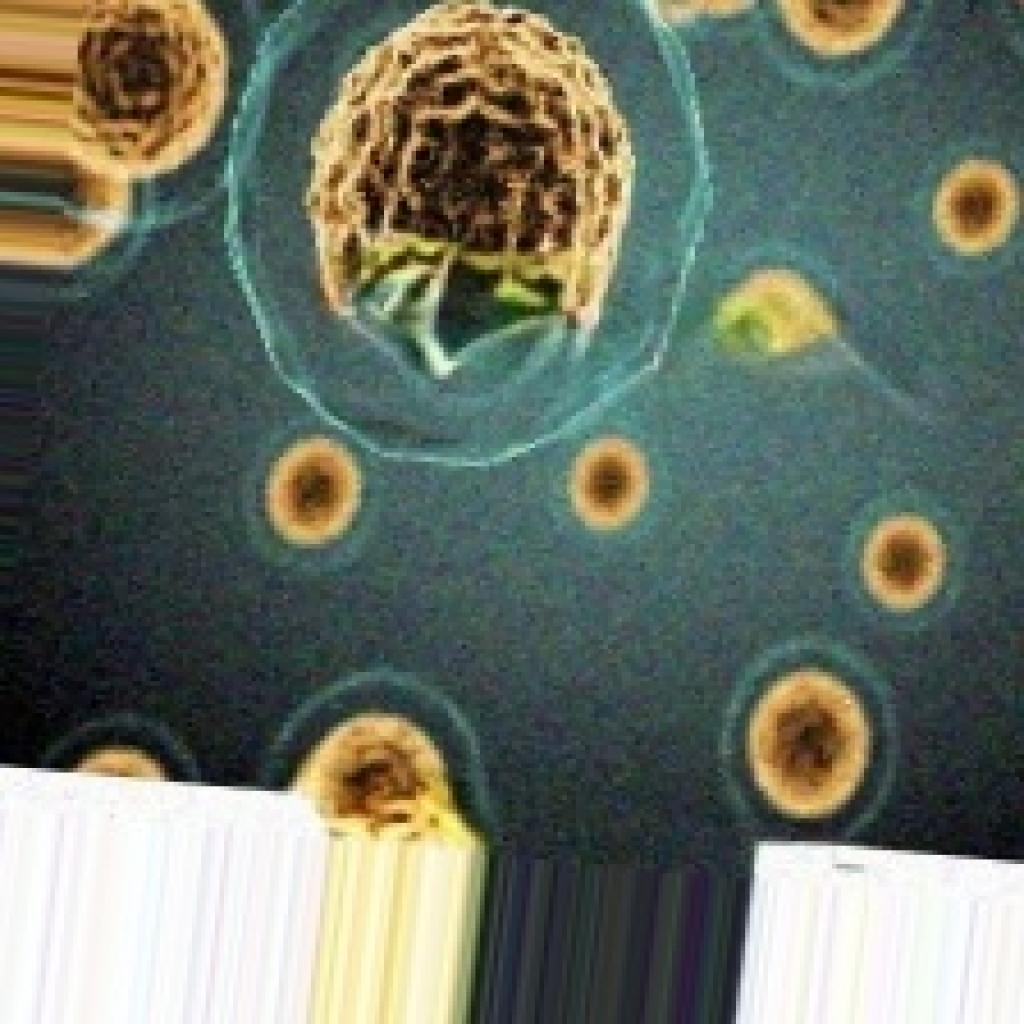Sphericalbacteria: (301, 0, 635, 379)
